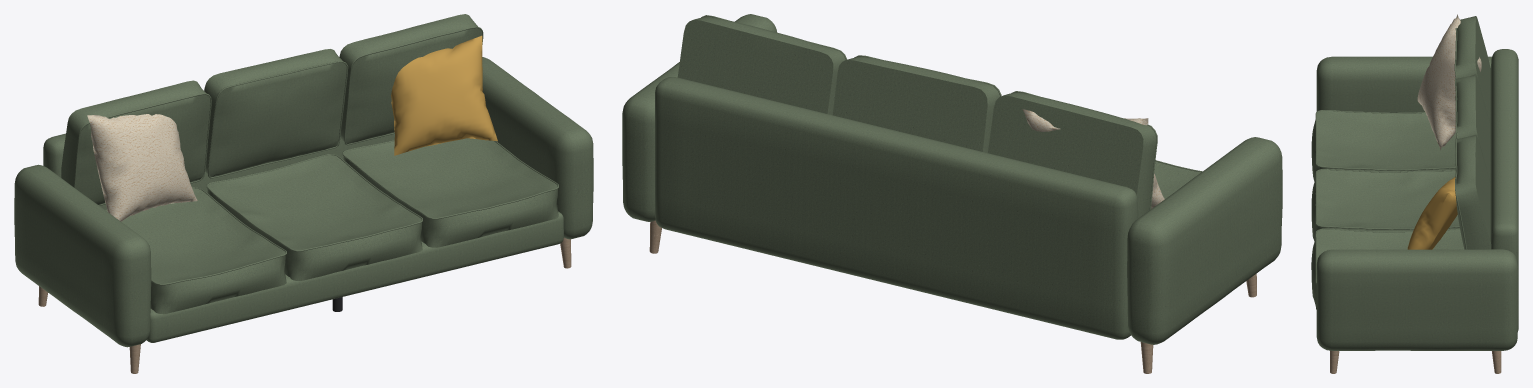
Rendered from sofa_3p_green.glb.
3 views of the same model, side by side, from view 1: azimuth 30°, elevation 25°; view 2: azimuth 150°, elevation 25°; view 3: azimuth 270°, elevation 25° (orthographic). The views are drawn at different scales.
Parts seen in each view (by area): view 1: sofa_soft, sofa_hard; view 2: sofa_soft, sofa_hard; view 3: sofa_soft, sofa_hard.
Boxes of the visible parts, box(x1,y1,x2,y2) form: sofa_soft: box(14, 14, 593, 347); sofa_hard: box(38, 238, 571, 373); sofa_soft: box(622, 14, 1282, 344); sofa_hard: box(649, 220, 1256, 373); sofa_soft: box(1311, 14, 1518, 350); sofa_hard: box(1330, 350, 1501, 373).
Size of the model in its own units: 2.21 by 0.8903 by 0.9257.
Materials: 5 (3 with a texture image).
